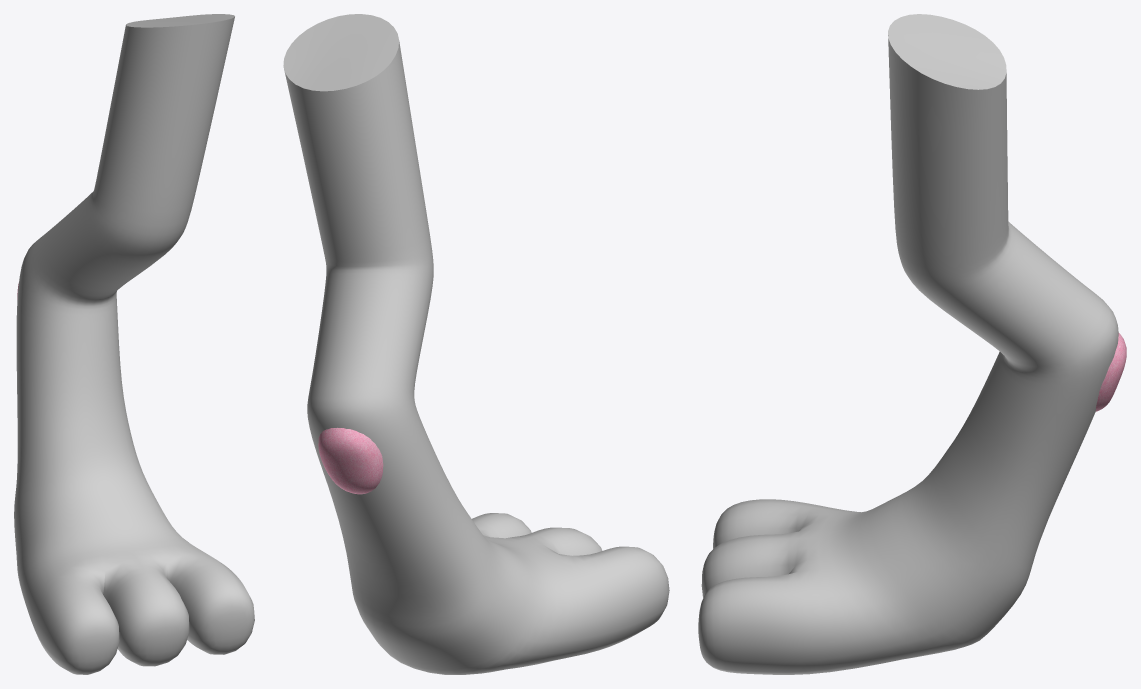
File: piernaDer.obj
The picture shows the model from 3 angles, left to right: view 1: azimuth 30°, elevation 25°; view 2: azimuth 150°, elevation 25°; view 3: azimuth 270°, elevation 25°; orthographic projection. The views are drawn at different scales.
Parts seen in each view (by area): view 1: piernaDer; view 2: piernaDer; view 3: piernaDer.
Part boxes in pixels (bbox=[...]): piernaDer: bbox=[14, 14, 254, 674]; piernaDer: bbox=[283, 14, 669, 674]; piernaDer: bbox=[698, 14, 1126, 674].
Size of the model in its own units: 1.79 by 3.77 by 2.19.
